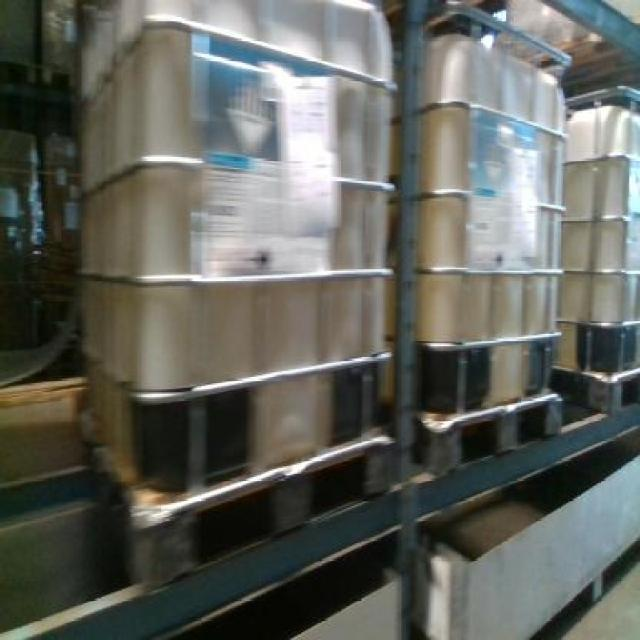pallet: (138, 417, 404, 606), (410, 378, 574, 485)
